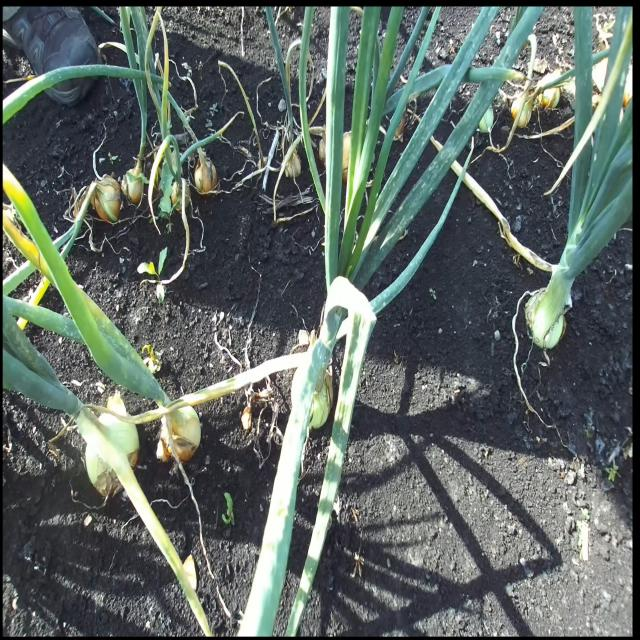onion: (75, 405, 140, 499), (157, 402, 201, 464), (318, 129, 352, 184), (308, 367, 333, 431), (91, 173, 122, 224), (120, 157, 148, 206), (194, 147, 218, 195), (511, 87, 533, 129), (170, 178, 191, 212)
